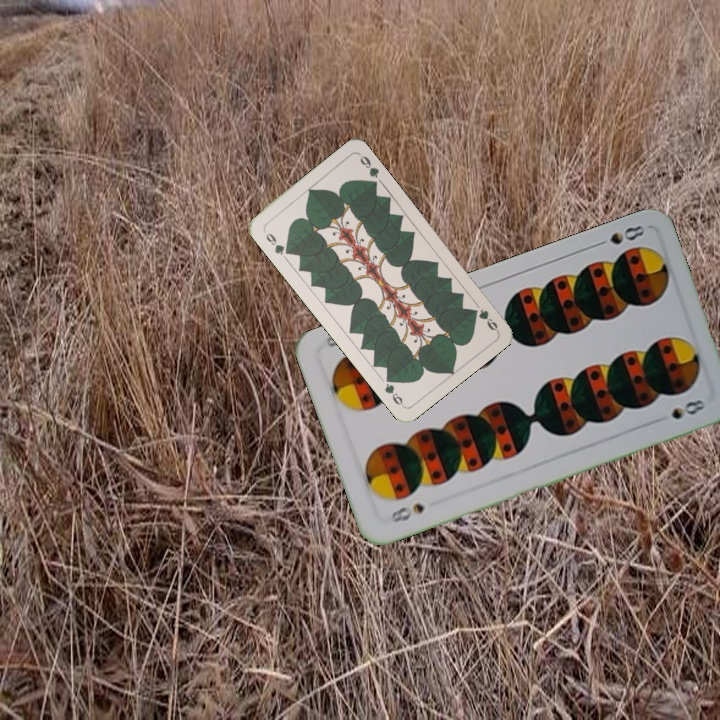G9: (468, 305, 501, 334), (262, 229, 293, 258)
S8: (590, 221, 648, 250), (387, 499, 427, 525)
